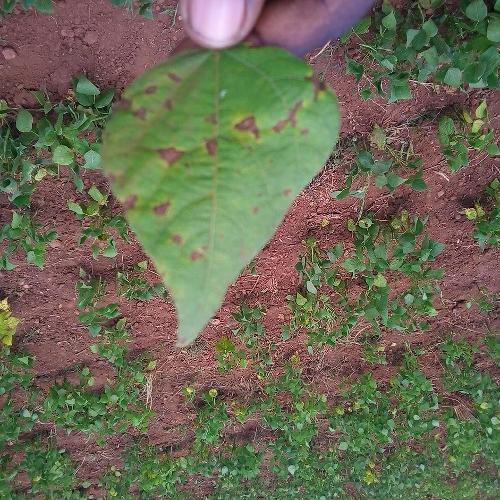hawar: (121, 58, 208, 275), (216, 103, 321, 148)
